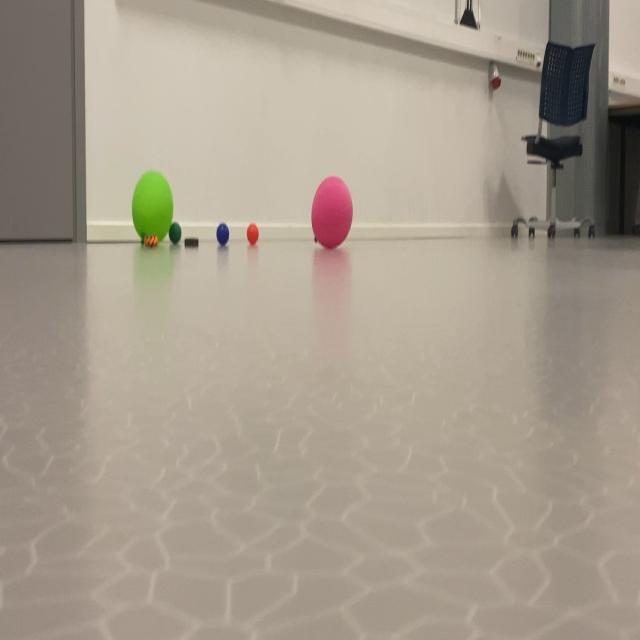7: (238, 208, 268, 264)
green ball: (210, 215, 238, 272)
red ball: (169, 215, 181, 258)
